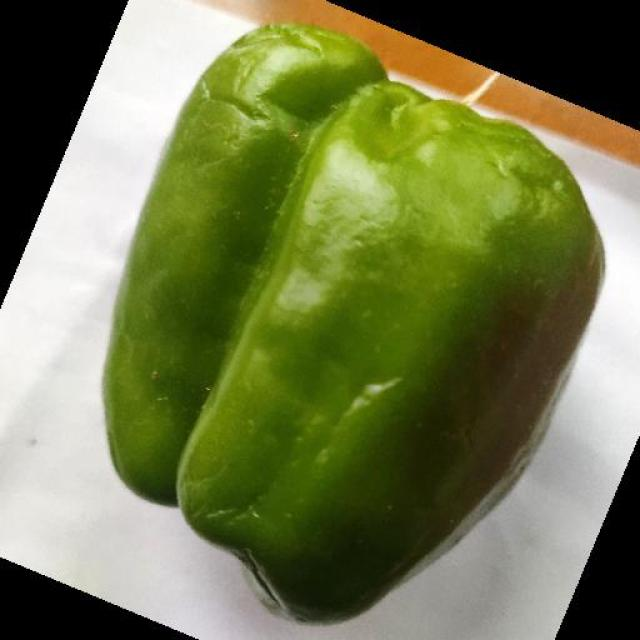Stale_Capsicum: (202, 17, 529, 575)
